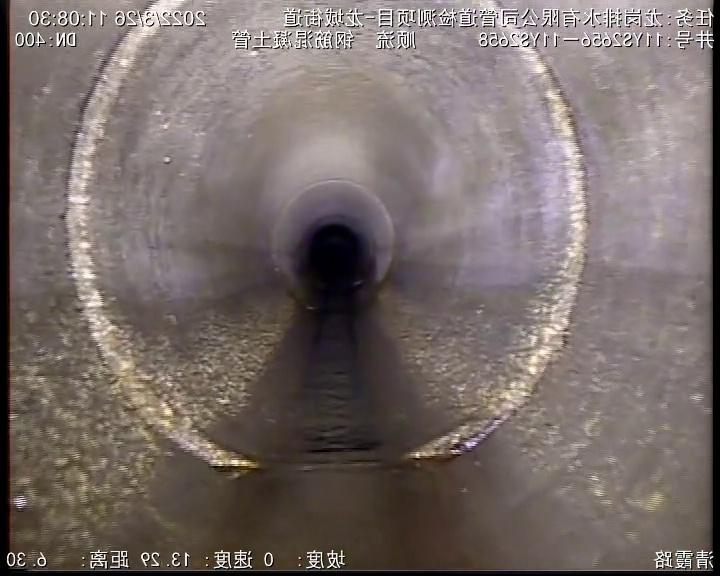CKTJ: (65, 16, 259, 471), (404, 47, 588, 458)
